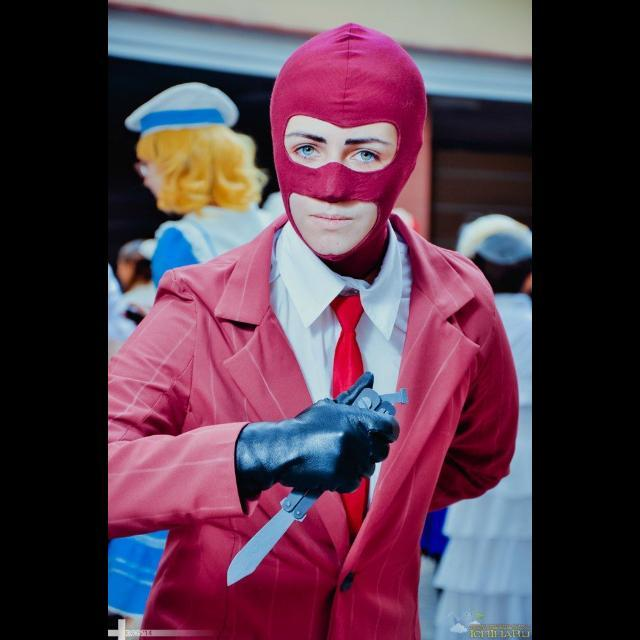criminal: (109, 23, 520, 640)
weapon: (226, 386, 382, 588)
